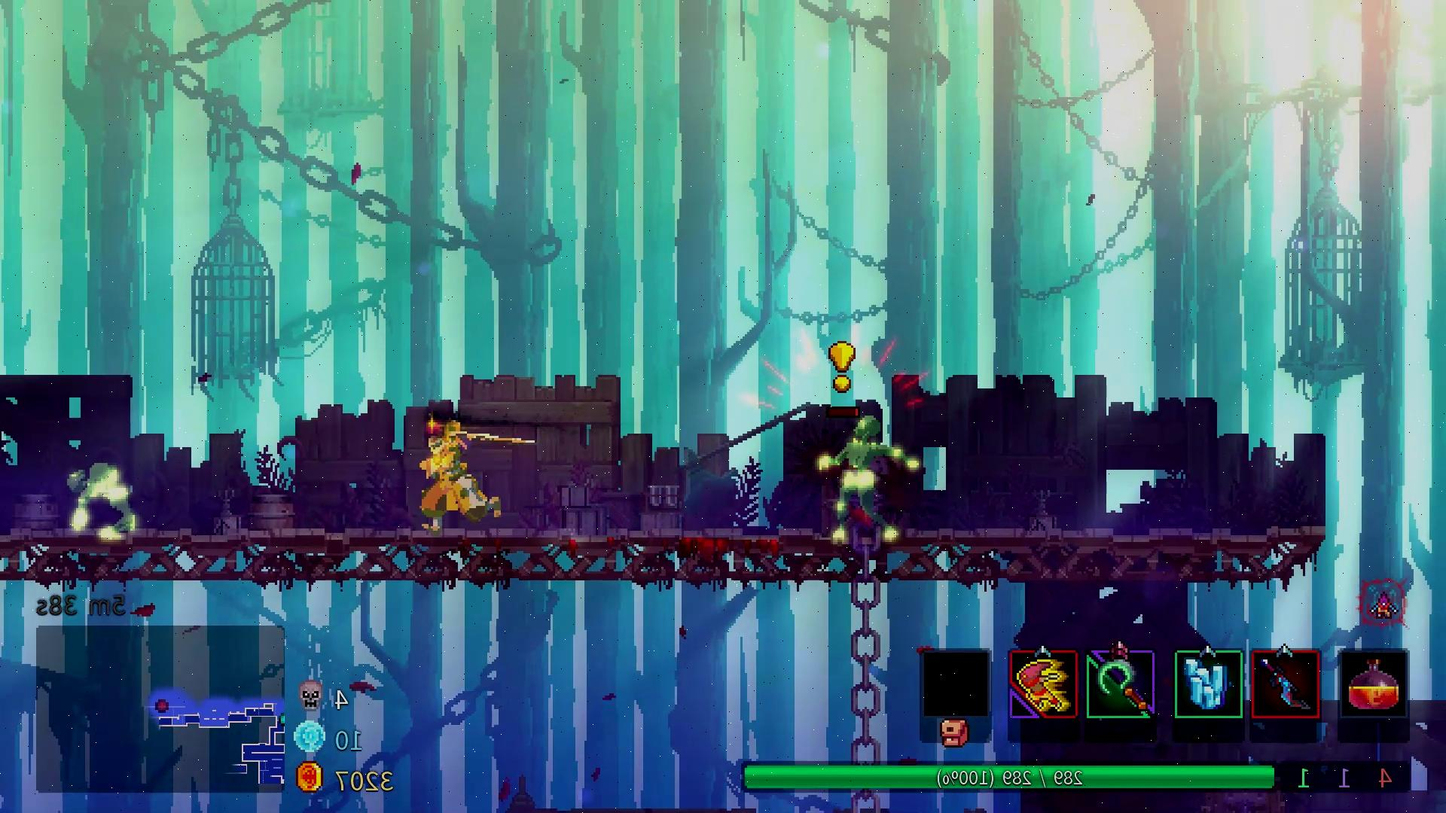gamer: (414, 411, 536, 530)
green1: (812, 412, 928, 547), (58, 453, 146, 540)
